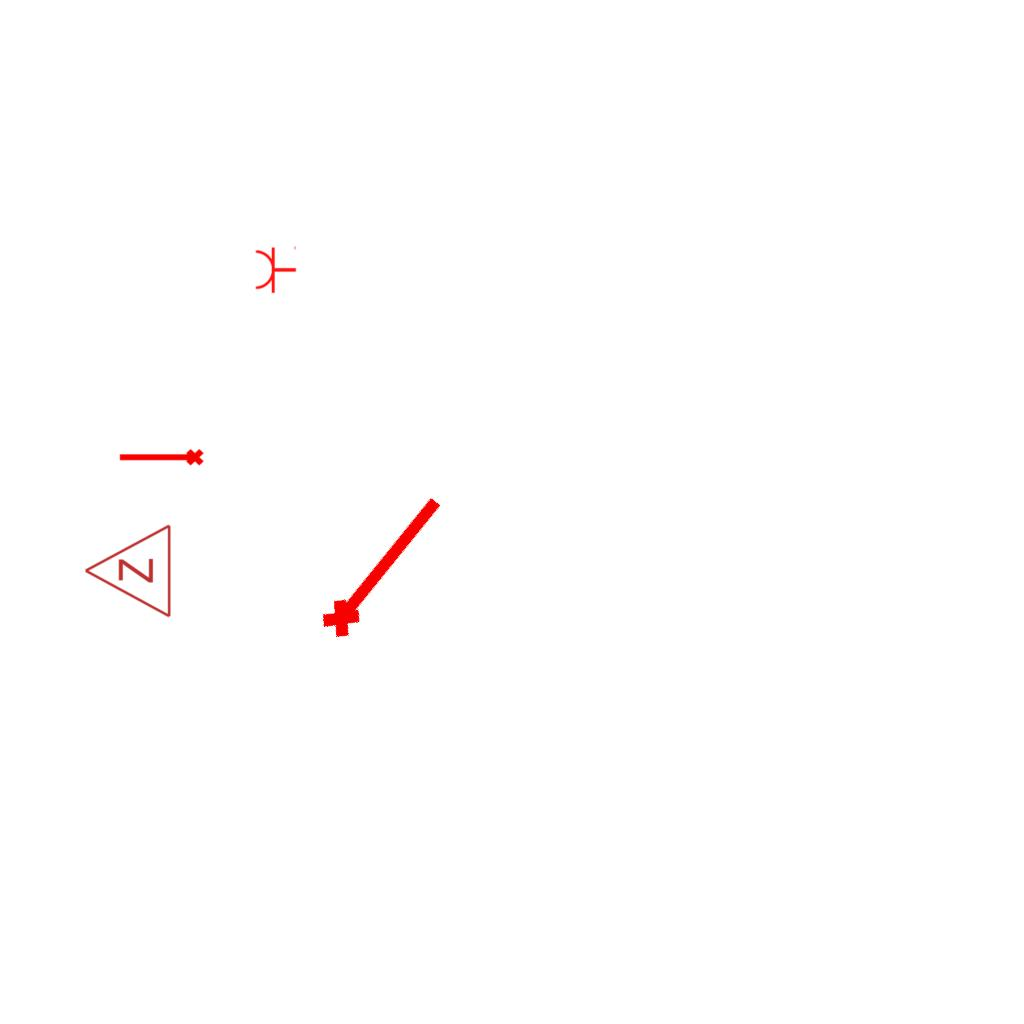ASR_Ansaugoeffnung: (308, 481, 456, 647), (117, 447, 205, 470)
Schukosteckdose_einfach: (254, 244, 297, 294)
Zimmersignalleuchte: (78, 523, 178, 621)
